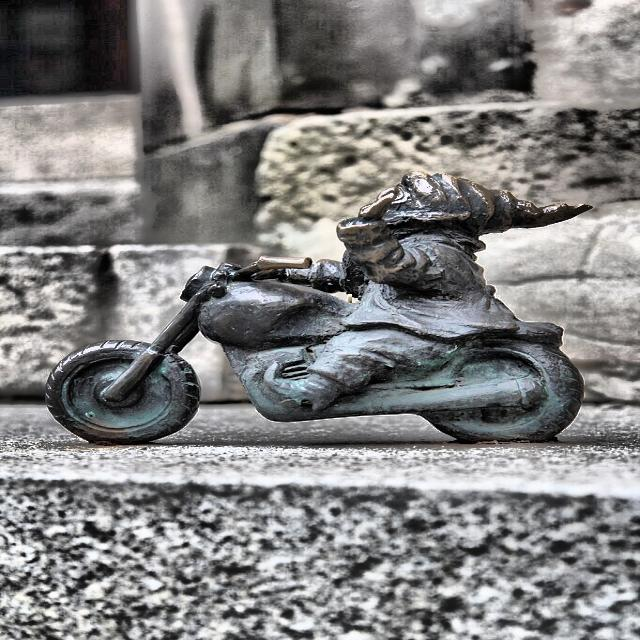Wentyl: (49, 172, 589, 443)
